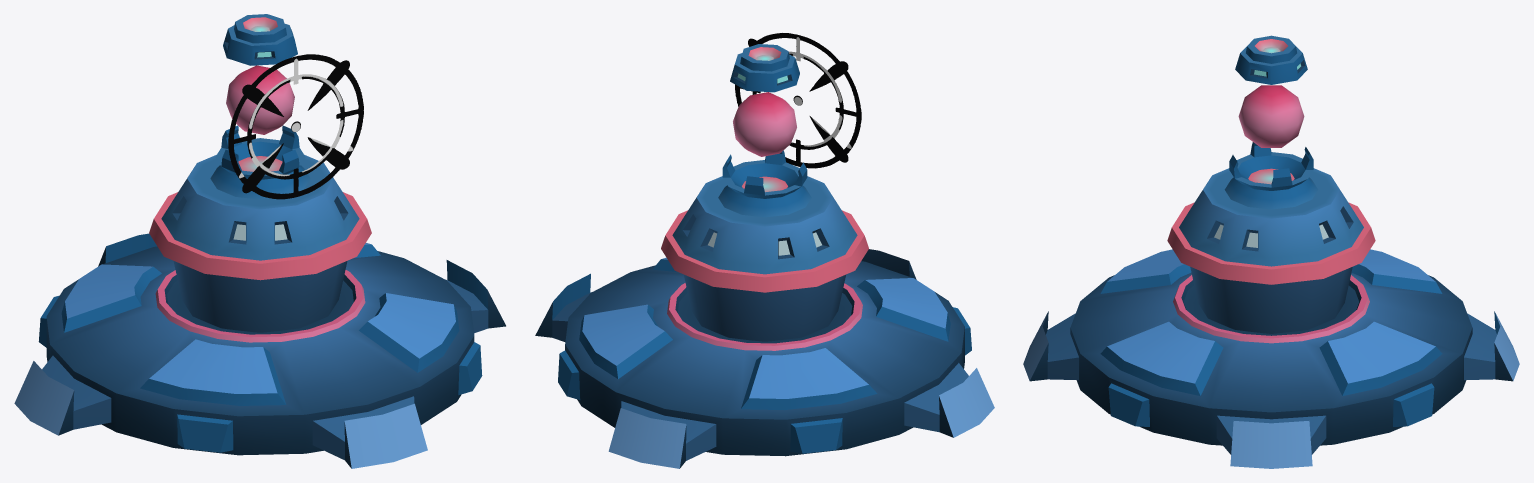
Rendered from Laser_01.fbx.
3 views of the same model, side by side, from view 1: azimuth 30°, elevation 25°; view 2: azimuth 150°, elevation 25°; view 3: azimuth 270°, elevation 25° (orthographic). The views are drawn at different scales.
Visible parts, largest first — view 1: Laser_Platform, Laser_01_Stage, Laser_Aim_01, Laser_01_Stage_Detail, Laser_01_Sphere; view 2: Laser_Platform, Laser_01_Stage, Laser_Aim_01, Laser_01_Sphere, Laser_01_Stage_Detail; view 3: Laser_Platform, Laser_01_Stage, Laser_01_Sphere, Laser_01_Stage_Detail.
Boxes of the visible parts, bbox=[...] form: Laser_Platform: bbox=[14, 233, 505, 468]; Laser_01_Stage: bbox=[149, 125, 371, 332]; Laser_Aim_01: bbox=[228, 54, 363, 199]; Laser_01_Stage_Detail: bbox=[223, 14, 297, 65]; Laser_01_Sphere: bbox=[226, 65, 294, 134]; Laser_Platform: bbox=[535, 249, 994, 468]; Laser_01_Stage: bbox=[661, 150, 868, 341]; Laser_Aim_01: bbox=[735, 33, 861, 168]; Laser_01_Sphere: bbox=[733, 92, 796, 156]; Laser_01_Stage_Detail: bbox=[730, 44, 799, 92]; Laser_Platform: bbox=[1023, 249, 1519, 468]; Laser_01_Stage: bbox=[1167, 142, 1375, 333]; Laser_01_Sphere: bbox=[1238, 85, 1304, 147]; Laser_01_Stage_Detail: bbox=[1235, 35, 1307, 84].
Size of the model in its own units: 2.47 by 1.75 by 2.47.
